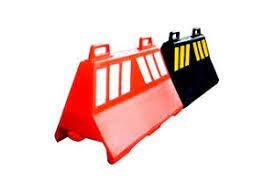obstacle: (60, 27, 225, 147)
